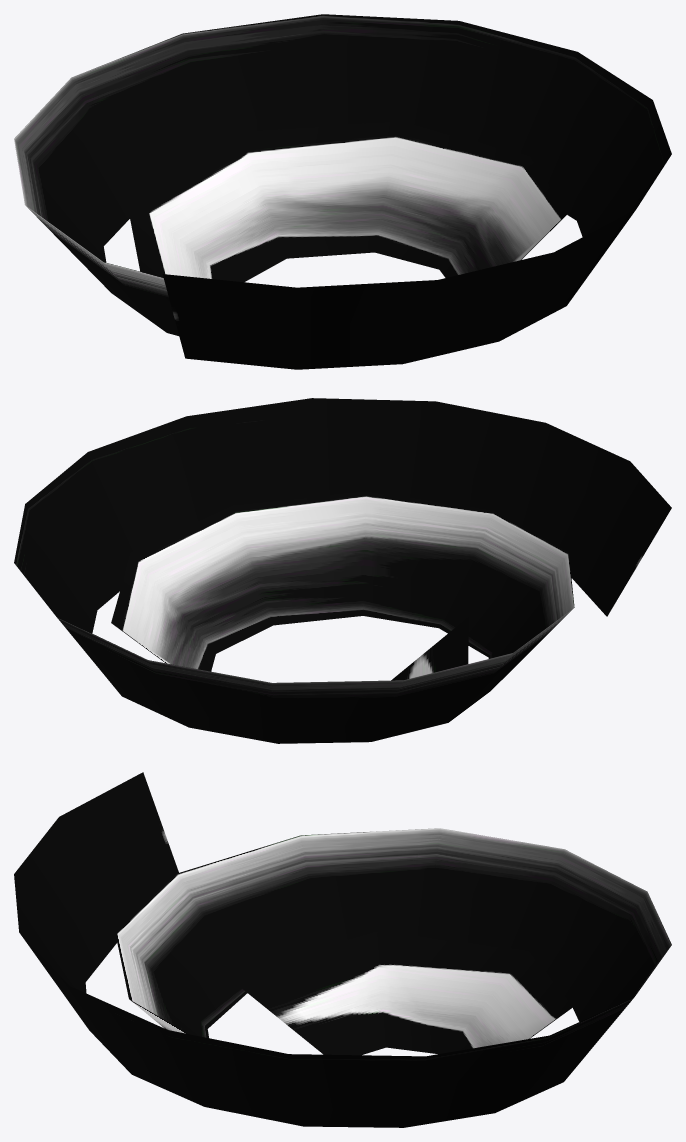
The model's file is 0113_P_FX_Quan_002.glb.
3 views of the same model, one above another, from view 1: azimuth 30°, elevation 25°; view 2: azimuth 150°, elevation 25°; view 3: azimuth 270°, elevation 25° (orthographic). The views are drawn at different scales.
Size of the model in its own units: 2.08 by 0.677 by 2.2.
1 material, 1 textured.
